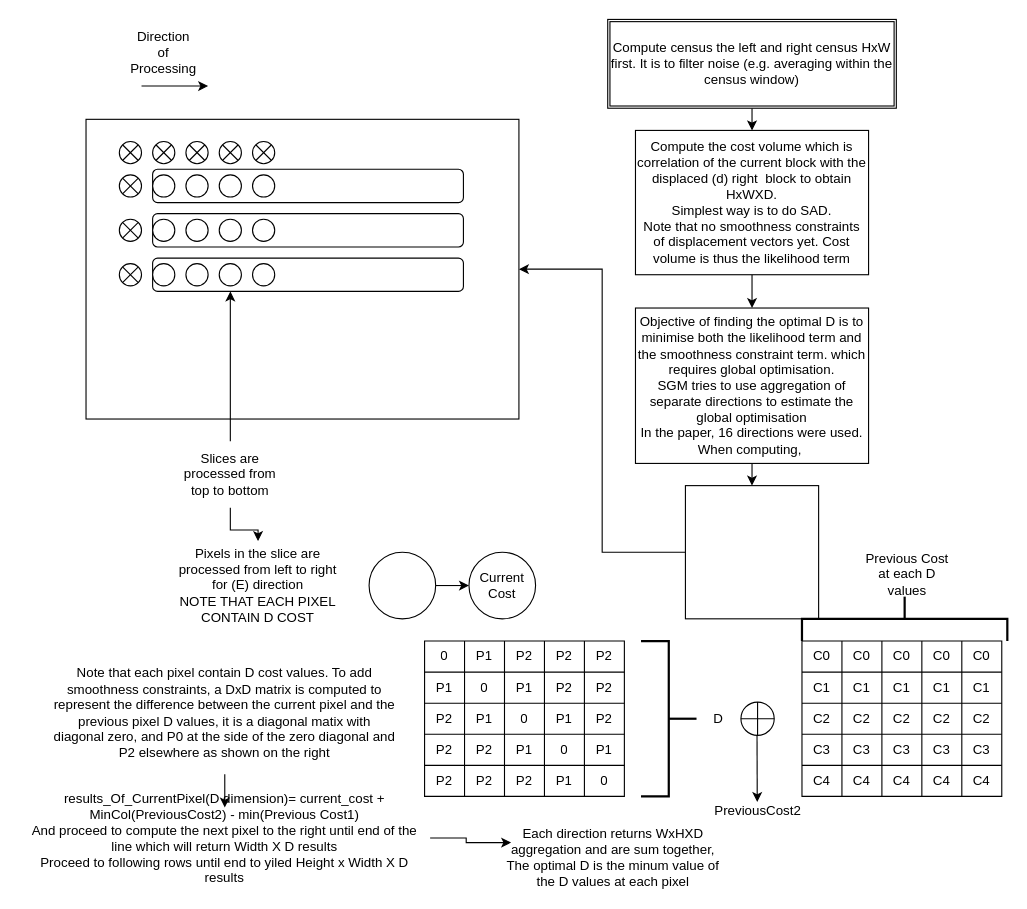
Some shapes in this 1027 by 909 pixel diagram are drawn without their labels. The shapes that lost their labels are listed below. From the top down, each one's box as (x1, y1, x2, y2) in pixels, then its label:
(684, 485, 819, 619): The figure illustrate how left to right direction (E) aggregate_cost is computed
(368, 551, 436, 619): Previous Cost1
